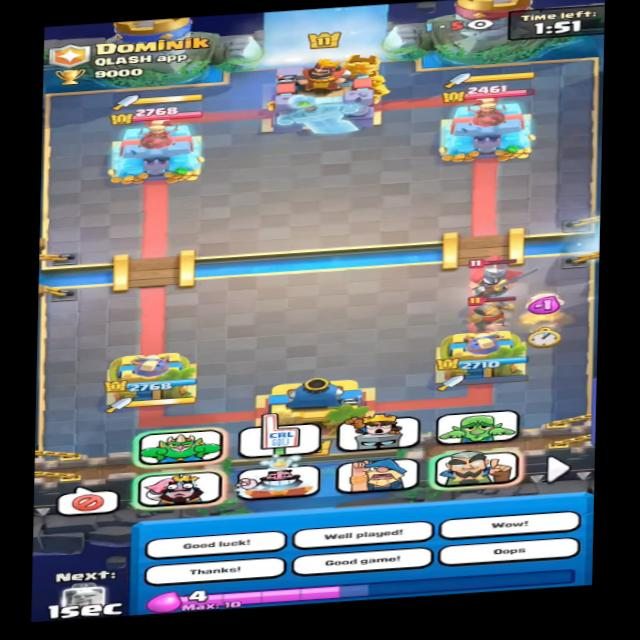guardian: (456, 248, 543, 293)
knight: (460, 288, 525, 332)
